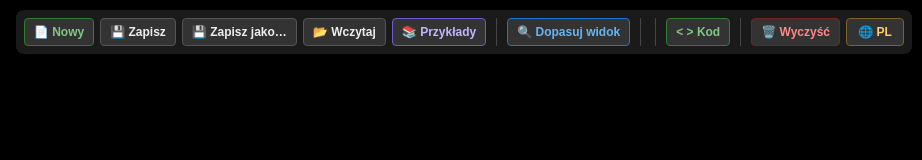
Test: Toolbar language switch › reacts to a stored Polish preference and can return to English
Expected: the button "📄 Nowy" is shown, [24,18,94,46]
Click the button with aria-label "Język: polski. Przełącz na angielski".
click(875, 32)  # box [846,18,904,46]
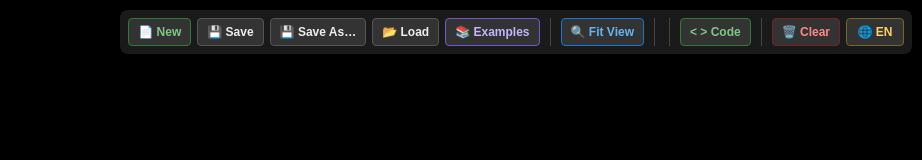
Expected: the button "📄 New" is shown, [128,18,191,46]
